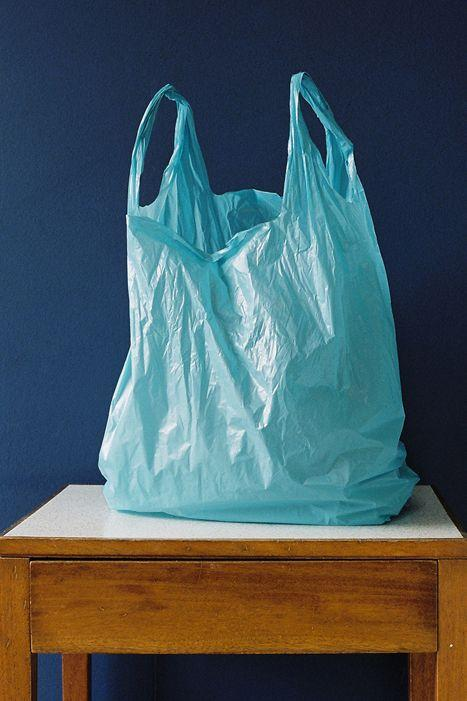LDPE: (95, 66, 424, 528)
